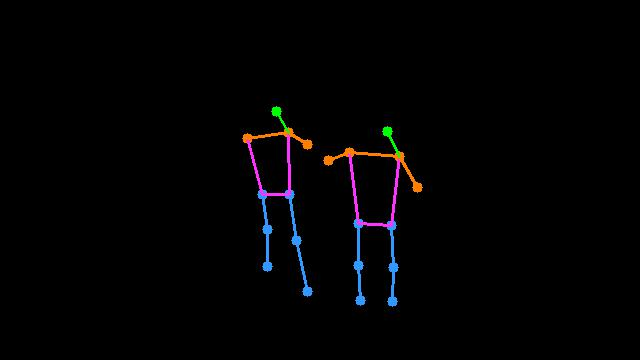normal: (321, 110, 426, 315)
